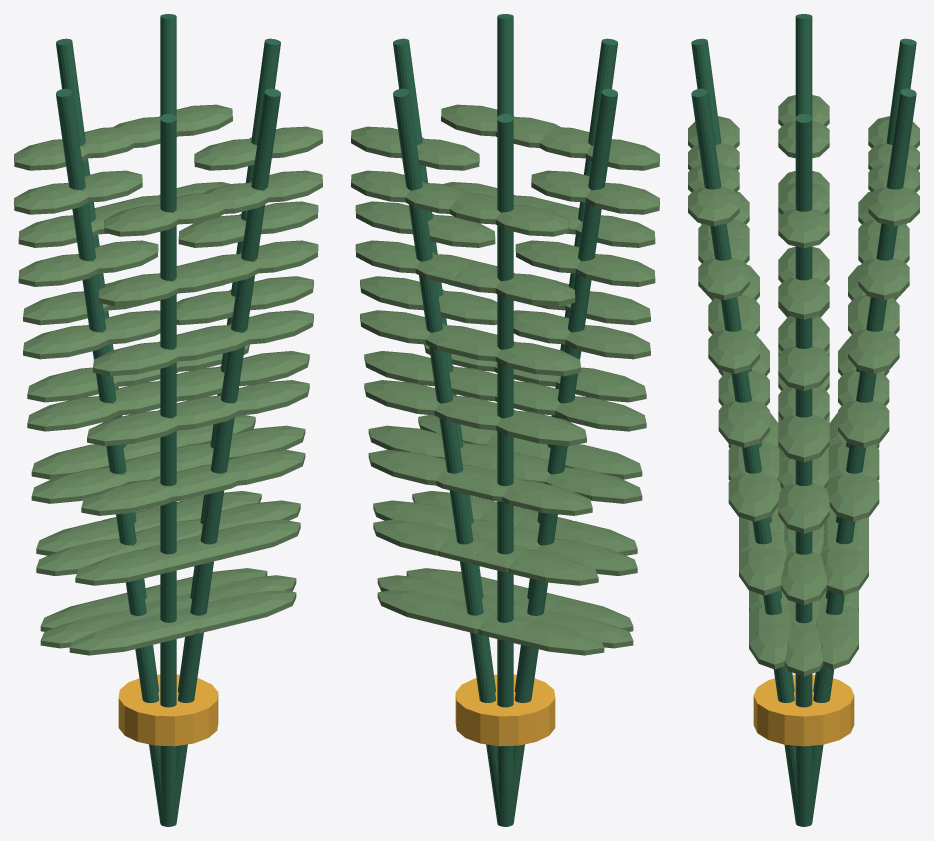
The model's file is scendance-plan-cn-mugwort.glb.
The picture shows the model from 3 angles, left to right: view 1: azimuth 30°, elevation 25°; view 2: azimuth 150°, elevation 25°; view 3: azimuth 270°, elevation 25°; orthographic projection.
Size of the model in its own units: 0.1623 by 0.3811 by 0.1057.
